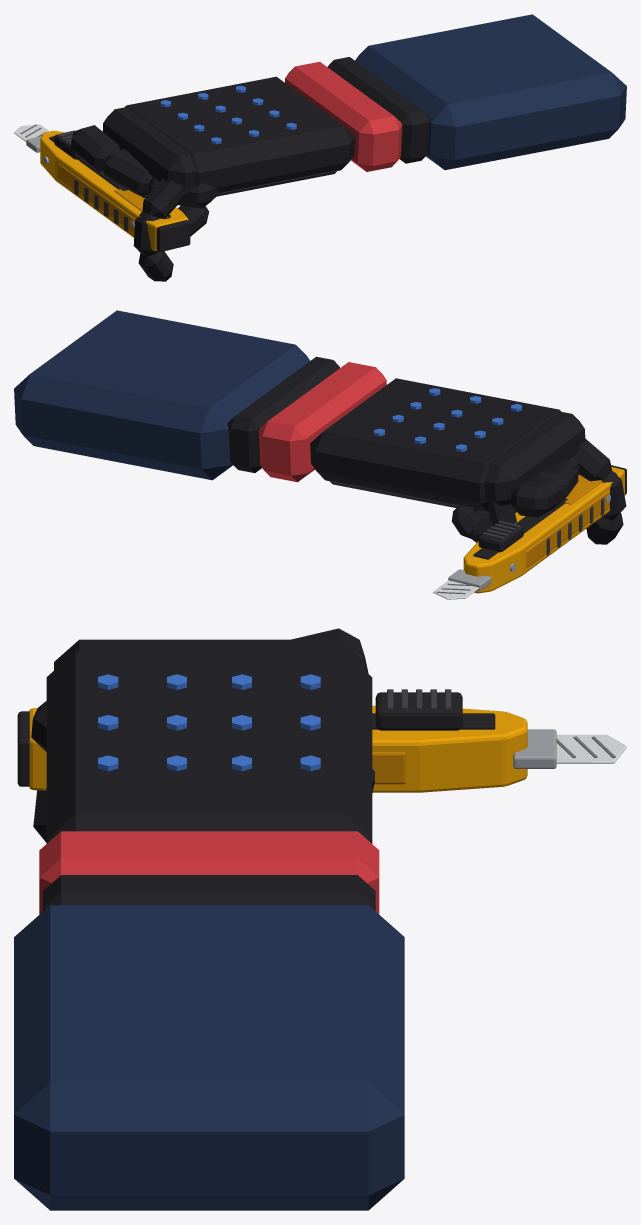
File: hands_holding_knife.glb
The picture shows the model from 3 angles, top to bottom: view 1: azimuth 30°, elevation 25°; view 2: azimuth 150°, elevation 25°; view 3: azimuth 270°, elevation 25°; orthographic projection. The views are drawn at different scales.
Parts seen in each view (by area): view 1: RightSleeve, RightPalm, RightCuffRed, RightKnuckles, RightWristBand, PlasticBody, RightThumb2, RightThumb3, RightIndex1, GripPanel_L, TailCap, RightIndex3 (+4 smaller); view 2: RightSleeve, RightPalm, RightCuffRed, RightKnuckles, RightWristBand, PlasticBody, RightThumb3, GripPanel_L, RightIndex1, RightThumb2, RightIndex3, ThumbSlider (+8 smaller); view 3: RightSleeve, RightPalm, RightCuffRed, RightWristBand, PlasticBody, RightKnuckles, ThumbSlider, SegmentedBlade, MetalGuide, GripPanel_R, TailCap.
Part boxes in pixels (x1,y1,x2,y2): RightSleeve: (355,14,626,170); RightPalm: (125,76,355,193); RightCuffRed: (285,61,402,171); RightKnuckles: (102,107,195,189); RightWristBand: (327,57,431,163); PlasticBody: (40,130,188,251); RightThumb2: (103,149,152,196); RightThumb3: (70,125,120,171); RightIndex1: (142,178,189,218); GripPanel_L: (58,163,135,234); TailCap: (156,220,190,251); RightIndex3: (138,251,173,281); RightSleeve: (14,310,309,480); RightPalm: (310,378,560,511); RightCuffRed: (258,362,386,482); RightKnuckles: (484,411,585,505); RightWristBand: (227,356,339,472); PlasticBody: (463,467,624,593); RightThumb3: (511,476,563,517); GripPanel_L: (526,490,609,567); RightIndex1: (574,438,611,481); RightThumb2: (538,460,578,503); RightIndex3: (586,513,623,544); ThumbSlider: (478,521,523,552); RightSleeve: (14,905,404,1210); RightPalm: (46,651,372,843); RightCuffRed: (39,831,379,914); RightWristBand: (43,875,375,911); PlasticBody: (29,705,527,792); RightKnuckles: (54,639,364,670); ThumbSlider: (375,692,462,730); SegmentedBlade: (556,734,626,763); MetalGuide: (513,729,556,768); GripPanel_R: (372,752,405,784); TailCap: (17,711,29,786).
Bounding box in the file's own units: 0.3093 × 0.0713 × 0.1694.
